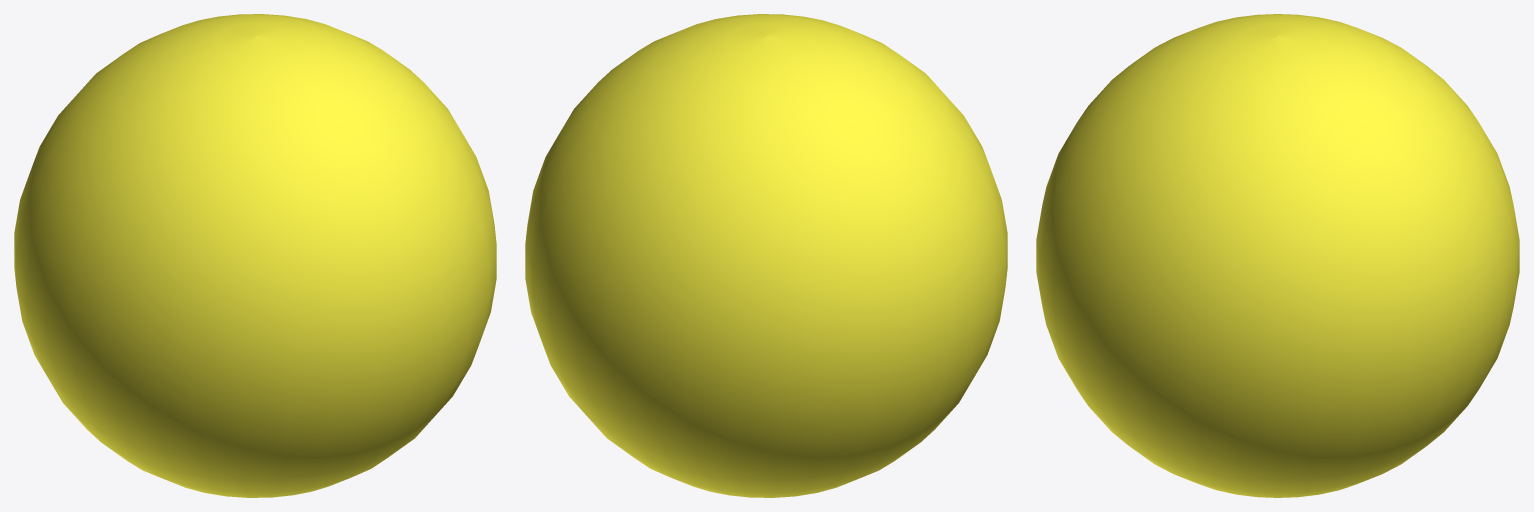
The model's file is yellow.glb.
3 views of the same model, side by side, from view 1: azimuth 30°, elevation 25°; view 2: azimuth 150°, elevation 25°; view 3: azimuth 270°, elevation 25° (orthographic).
Visible parts, largest first — view 1: 曲面球; view 2: 曲面球; view 3: 曲面球.
Part boxes in pixels (left/top/right/bottom): 曲面球: left=14, top=14, right=496, bottom=497; 曲面球: left=525, top=14, right=1007, bottom=497; 曲面球: left=1036, top=14, right=1519, bottom=497.
Bounding box in the file's own units: 1.99 × 2 × 1.99.
